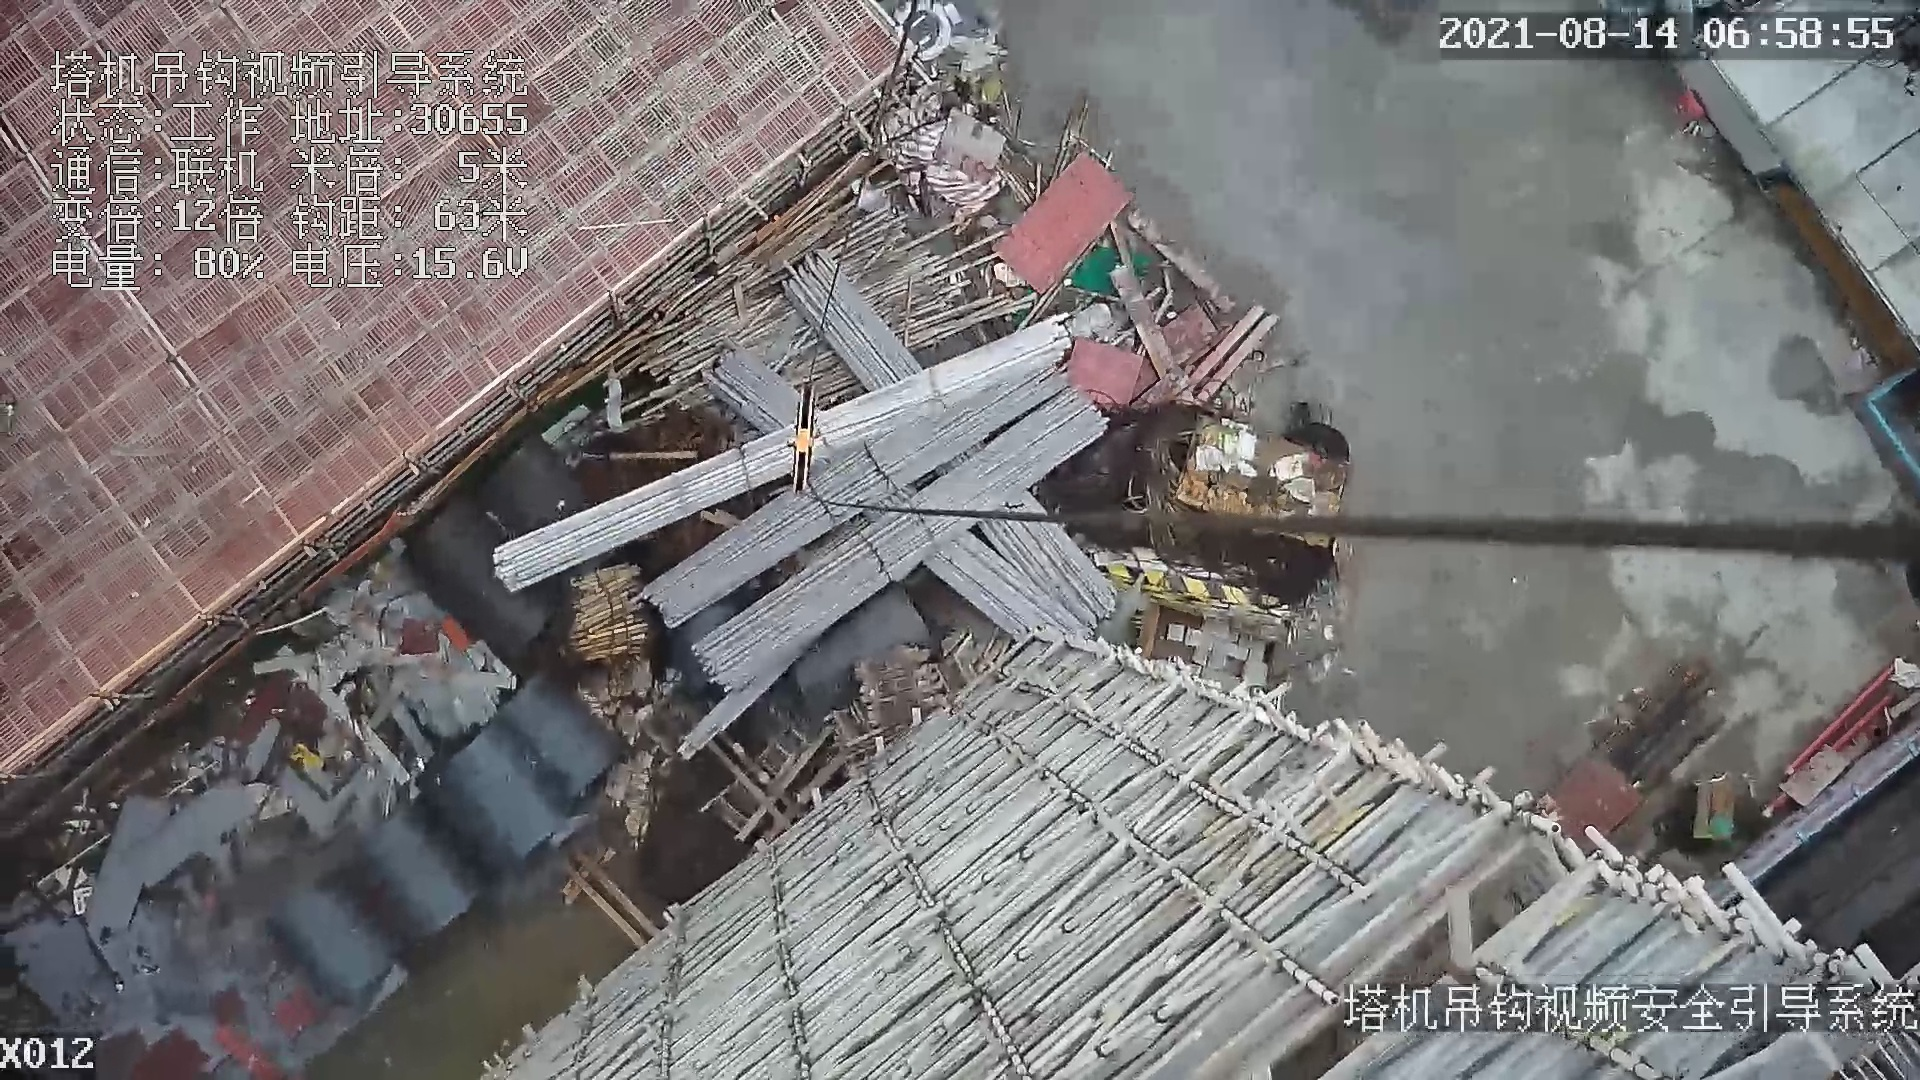hook: (781, 380, 820, 496)
rebar: (488, 310, 1077, 589), (691, 396, 1109, 692), (642, 360, 1068, 626), (789, 255, 923, 392), (927, 534, 1083, 637)
wood: (567, 562, 647, 662)
